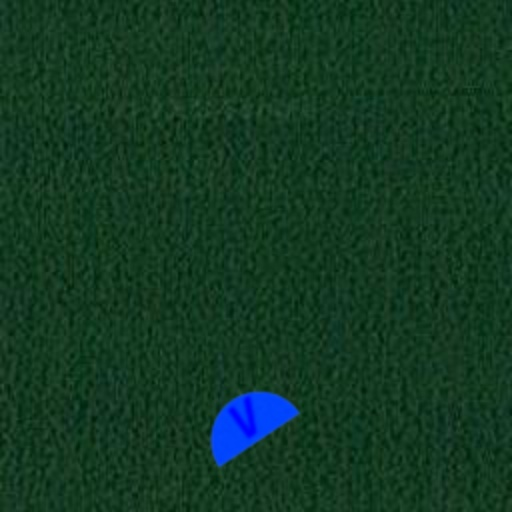semicircle: (178, 352, 314, 488)
